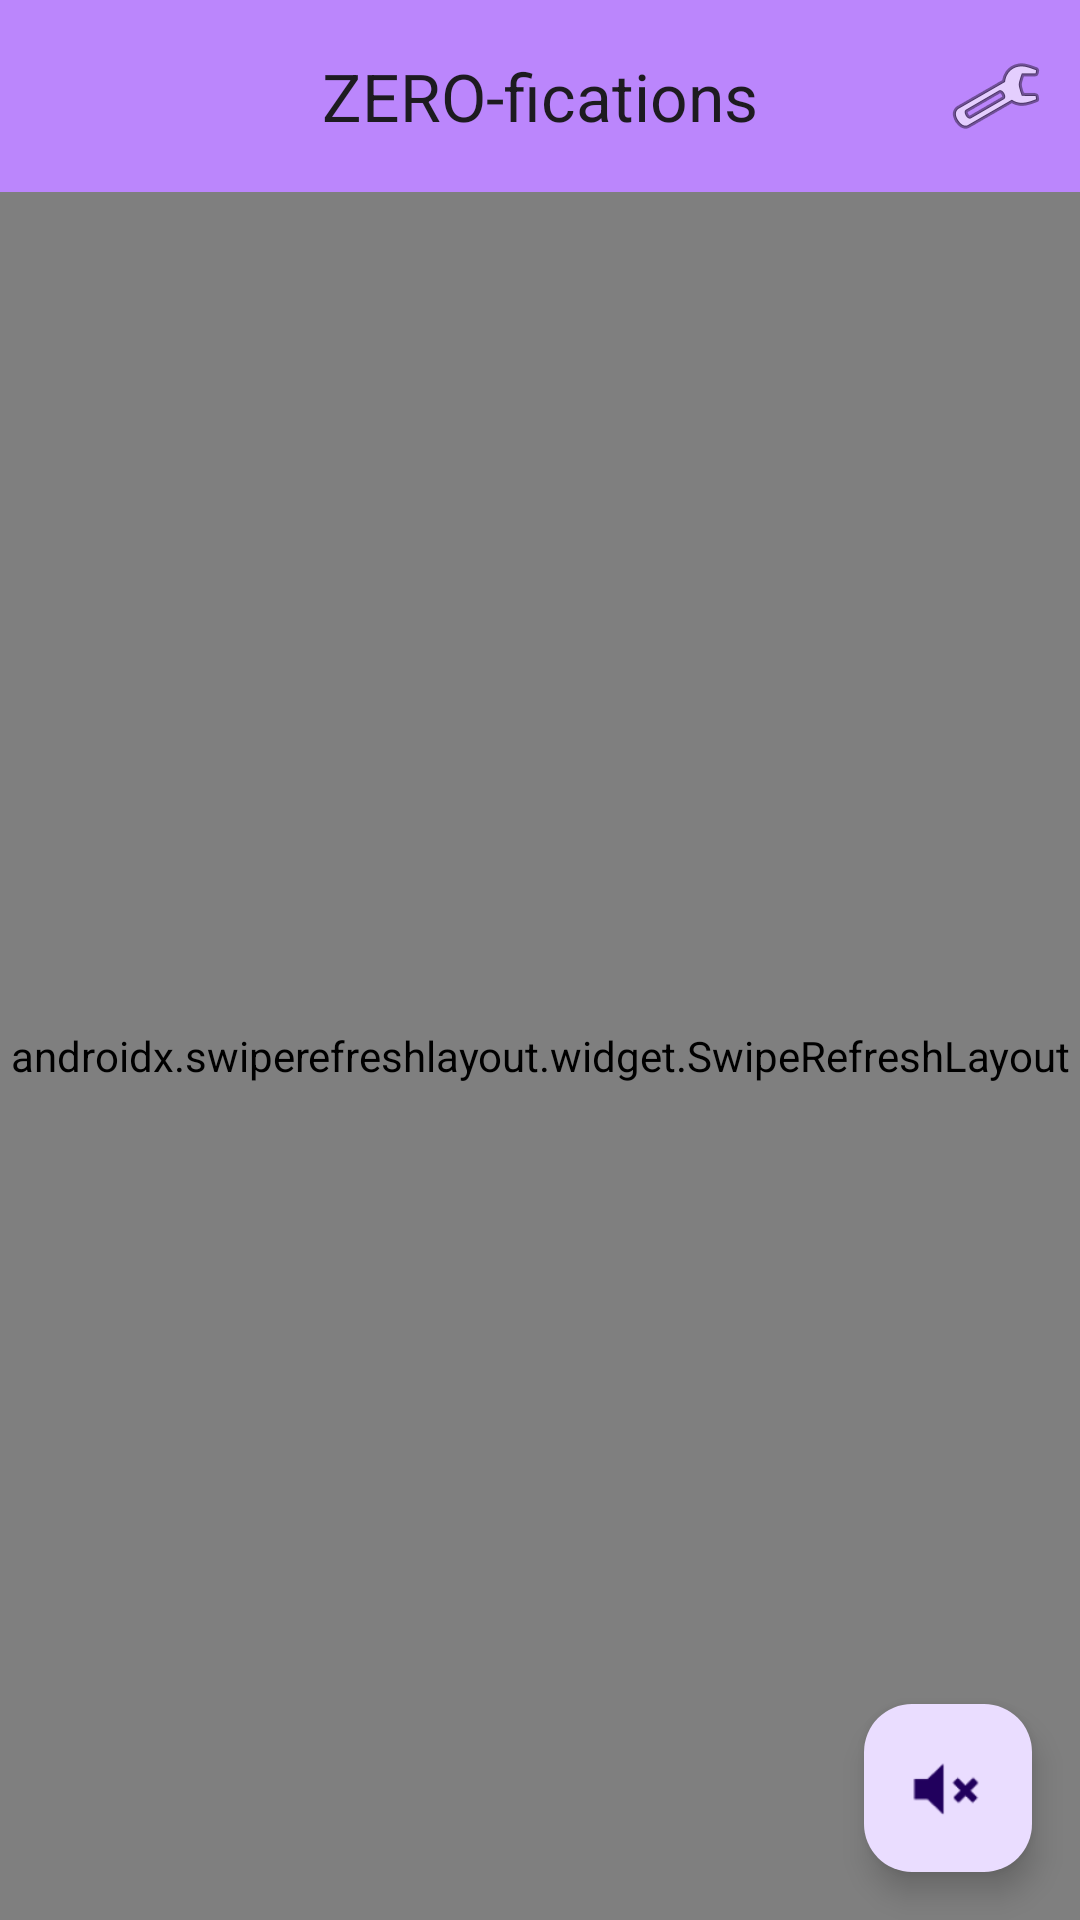

Named icons in this screenshot (1080w x 1920h) and their bounding boxes, (x1, y1, x2, y2):
Kill switch — silence all notifications: (864, 1704, 1032, 1872)
